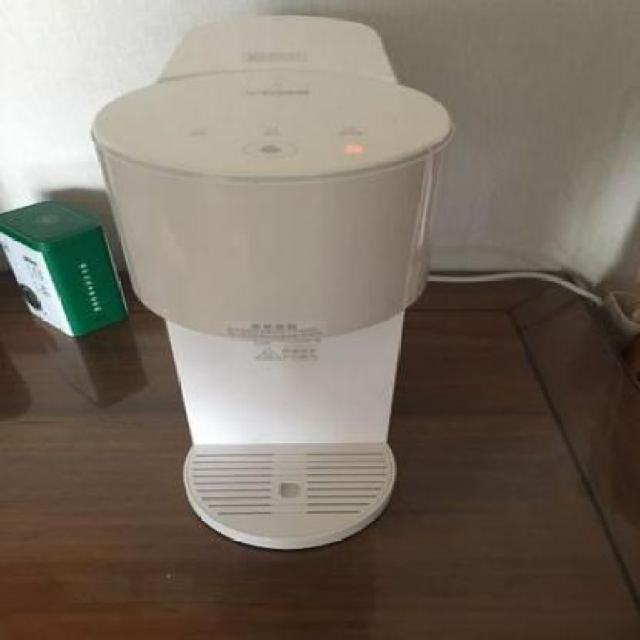cooler: (87, 6, 456, 552)
